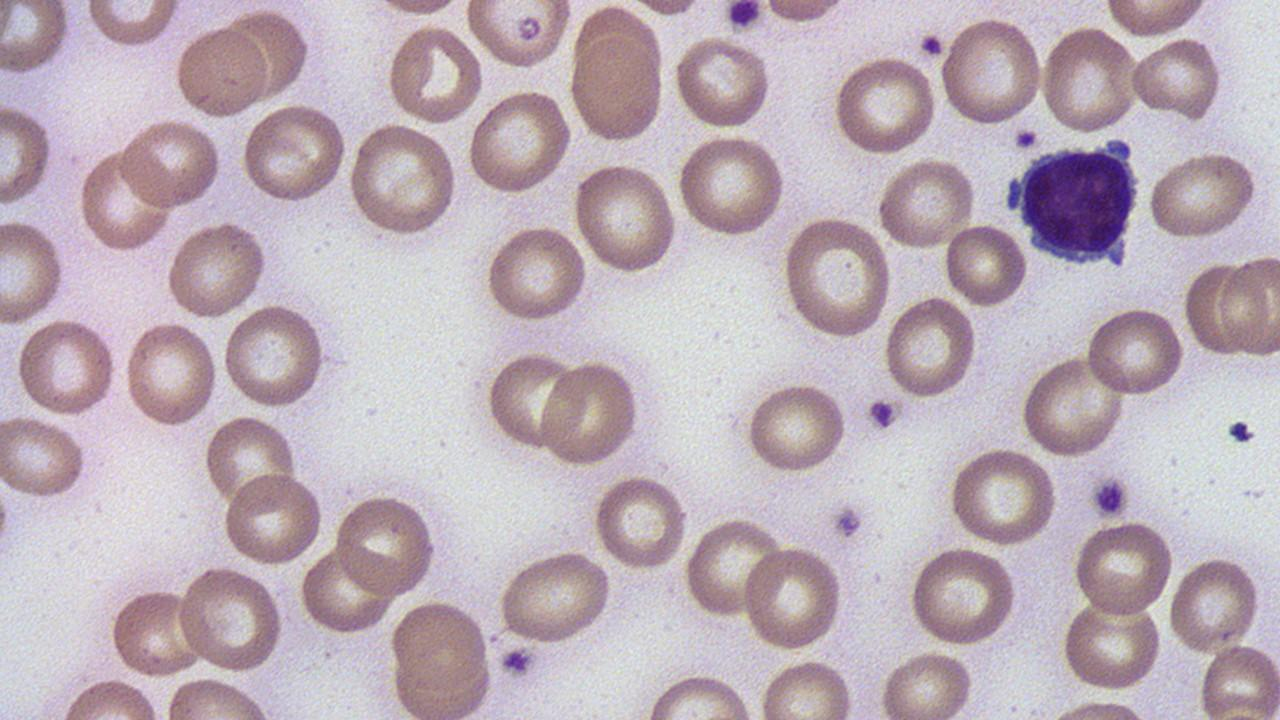Platelets: (1092, 473, 1130, 520), (864, 395, 899, 433), (724, 0, 766, 31), (496, 646, 532, 675), (918, 33, 946, 58), (1013, 128, 1039, 150)
RBC: (566, 3, 666, 145), (783, 214, 893, 340), (346, 121, 460, 236), (387, 598, 495, 716), (572, 160, 680, 275), (175, 564, 285, 676), (676, 132, 790, 239), (937, 15, 1043, 128), (1019, 352, 1129, 459), (467, 88, 574, 197), (223, 301, 329, 411), (908, 544, 1020, 648), (742, 543, 846, 653), (830, 55, 941, 158), (947, 446, 1059, 547), (496, 549, 615, 644), (333, 492, 439, 598), (540, 357, 642, 467), (1040, 24, 1140, 136), (240, 102, 349, 204), (684, 516, 786, 624), (121, 319, 219, 430), (482, 224, 590, 324), (1145, 148, 1261, 240), (1071, 518, 1175, 620), (163, 221, 270, 318), (882, 293, 979, 399), (16, 316, 117, 417), (78, 148, 174, 254), (385, 24, 484, 126), (483, 349, 578, 455), (745, 380, 849, 476), (118, 116, 224, 209), (1167, 554, 1263, 656), (221, 473, 323, 568), (1059, 600, 1165, 691), (593, 473, 689, 573), (672, 36, 774, 130), (203, 412, 300, 510), (877, 155, 976, 251), (1086, 304, 1186, 398), (108, 584, 207, 678), (173, 26, 270, 121), (299, 544, 396, 637), (1131, 34, 1225, 125), (228, 6, 313, 100), (942, 220, 1029, 310), (1, 413, 88, 502), (0, 215, 68, 328), (465, 1, 573, 72), (876, 650, 980, 716), (1183, 260, 1253, 358), (755, 656, 859, 720), (1217, 254, 1279, 360), (1199, 641, 1279, 719), (1, 96, 55, 210), (0, 0, 74, 79), (85, 1, 182, 50), (1102, 1, 1212, 36), (755, 0, 854, 27)
WBC: (1011, 135, 1143, 267)
